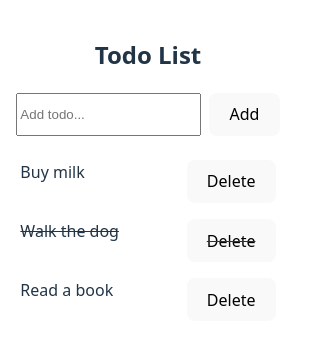
TodoList component › adds a new todo
The image size is (320, 352).
Step 1. Type "New task" into the field with test id "add-input" → {"x": 109, "y": 114}, box x1=16 y1=92 x2=201 y2=136
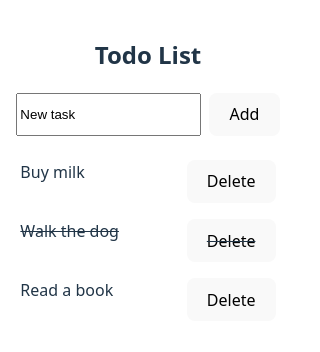
Step 2. Click the button with test id "add-button" → {"x": 245, "y": 114}, box x1=209 y1=92 x2=280 y2=136
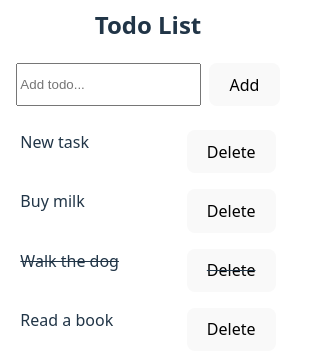
Expected: the text "New task" is shown, x1=20 y1=131 x2=89 y2=153
